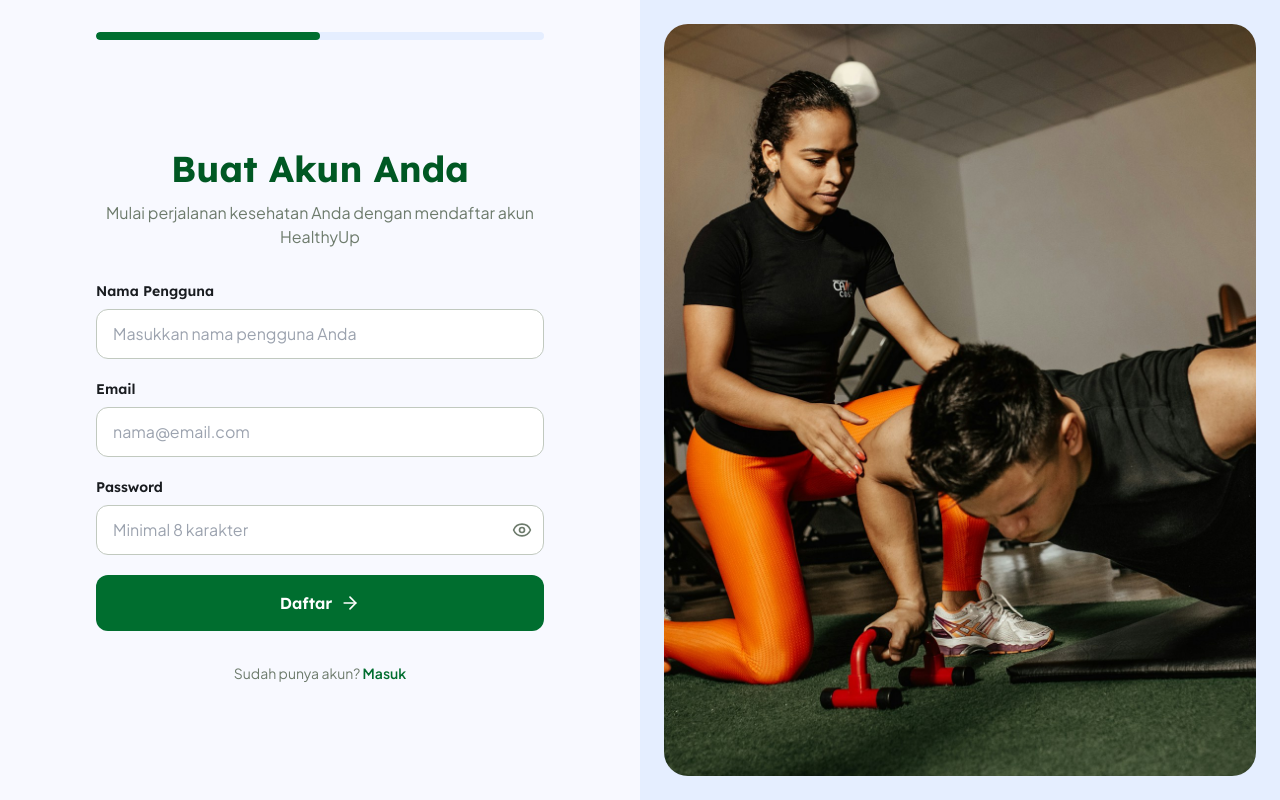
Test: Onboarding Page › menampilkan error saat submit form kosong
Click the button "Daftar" at (320, 603), box [96,575,544,631]
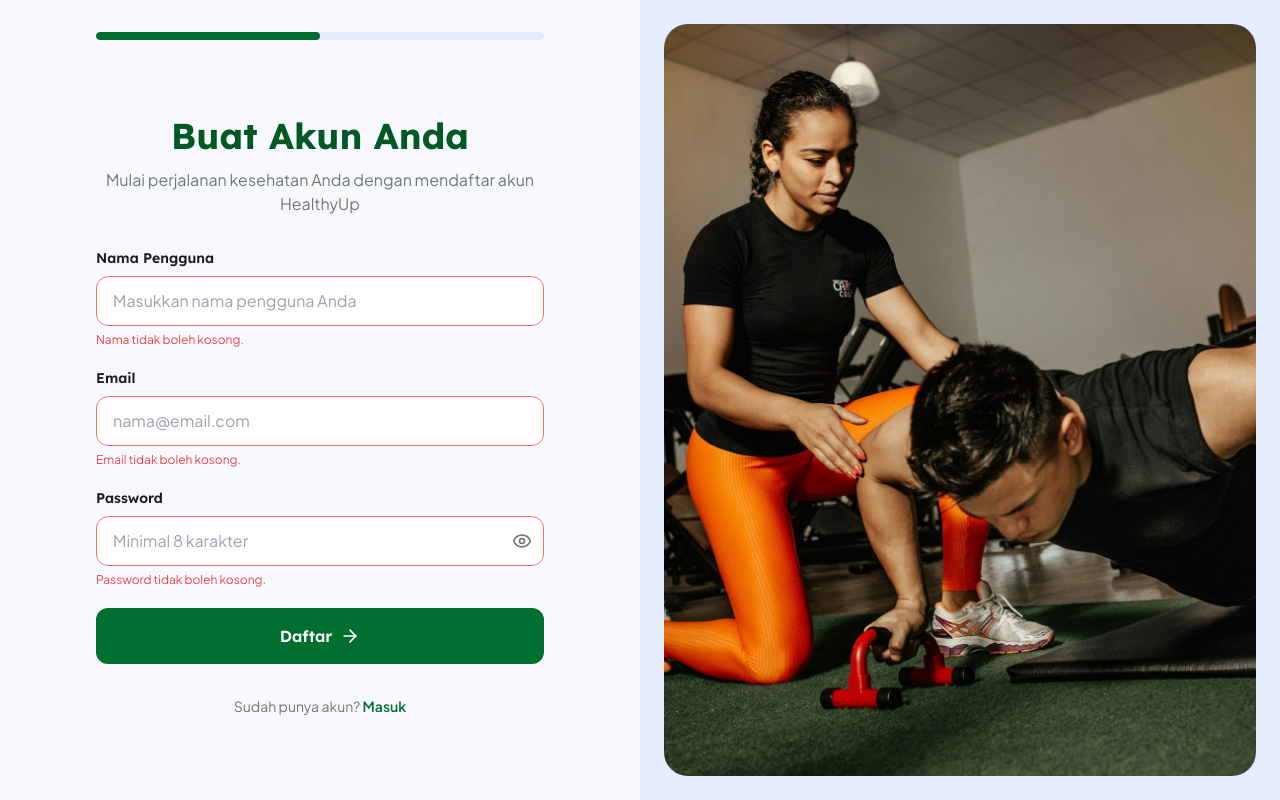
Now the text "Nama tidak boleh kosong." is shown, box [96,332,244,347]
Now the text "Email tidak boleh kosong." is shown, box [96,452,241,467]
Now the text "Password tidak boleh kosong." is shown, box [96,572,266,587]
